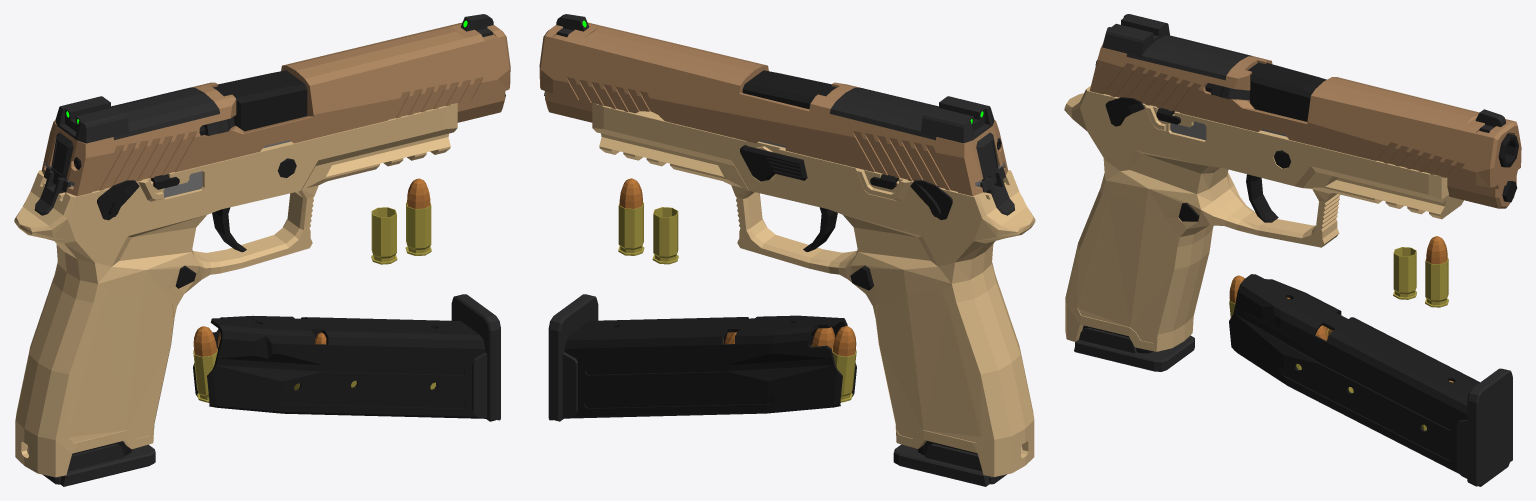
The model's file is low-poly_sig_sauer_m17.glb.
The picture shows the model from 3 angles, left to right: view 1: azimuth 30°, elevation 25°; view 2: azimuth 150°, elevation 25°; view 3: azimuth 330°, elevation 25°; orthographic projection. The views are drawn at different scales.
Parts seen in each view (by area): view 1: m17fs frame_6, m17fs slide_5, 919 p320 17rnd mag_3, m17fs barrel 4.7in_4, 919 p320 17rnd empty mag_0, 9x19_1, Object_10, m17fs safety_9, m17fs trigga_8; view 2: m17fs frame_6, m17fs slide_5, 919 p320 17rnd mag_3, 919 p320 17rnd empty mag_0, m17fs barrel 4.7in_4, 9x19_1, Object_10, m17fs safety_9, m17fs trigga_8; view 3: m17fs frame_6, m17fs slide_5, 919 p320 17rnd mag_3, m17fs barrel 4.7in_4, 919 p320 17rnd empty mag_0, 9x19_1, Object_10, m17fs trigga_8, m17fs safety_9.
Boxes of the visible parts, <box> form: m17fs frame_6: <box>14,94,505,477</box>; m17fs slide_5: <box>41,14,510,196</box>; 919 p320 17rnd mag_3: <box>193,294,500,421</box>; m17fs barrel 4.7in_4: <box>213,70,307,131</box>; 919 p320 17rnd empty mag_0: <box>43,441,155,486</box>; 9x19_1: <box>405,178,431,255</box>; Object_10: <box>371,207,397,264</box>; m17fs safety_9: <box>97,180,139,220</box>; m17fs trigga_8: <box>212,207,246,252</box>; m17fs frame_6: <box>544,92,1035,476</box>; m17fs slide_5: <box>539,14,1007,196</box>; 919 p320 17rnd mag_3: <box>548,294,856,421</box>; 919 p320 17rnd empty mag_0: <box>893,441,1006,486</box>; m17fs barrel 4.7in_4: <box>742,70,836,109</box>; 9x19_1: <box>618,178,644,255</box>; Object_10: <box>652,207,678,264</box>; m17fs safety_9: <box>910,180,952,219</box>; m17fs trigga_8: <box>803,207,837,251</box>; m17fs frame_6: <box>1064,86,1517,351</box>; m17fs slide_5: <box>1089,14,1521,208</box>; 919 p320 17rnd mag_3: <box>1229,274,1512,486</box>; m17fs barrel 4.7in_4: <box>1247,62,1518,167</box>; 919 p320 17rnd empty mag_0: <box>1074,325,1194,371</box>; 9x19_1: <box>1425,236,1448,307</box>; Object_10: <box>1393,247,1416,299</box>; m17fs trigga_8: <box>1246,174,1278,222</box>; m17fs safety_9: <box>1105,97,1144,126</box>.
Bounding box in the file's own units: 2.05 × 1.61 × 0.3176.
